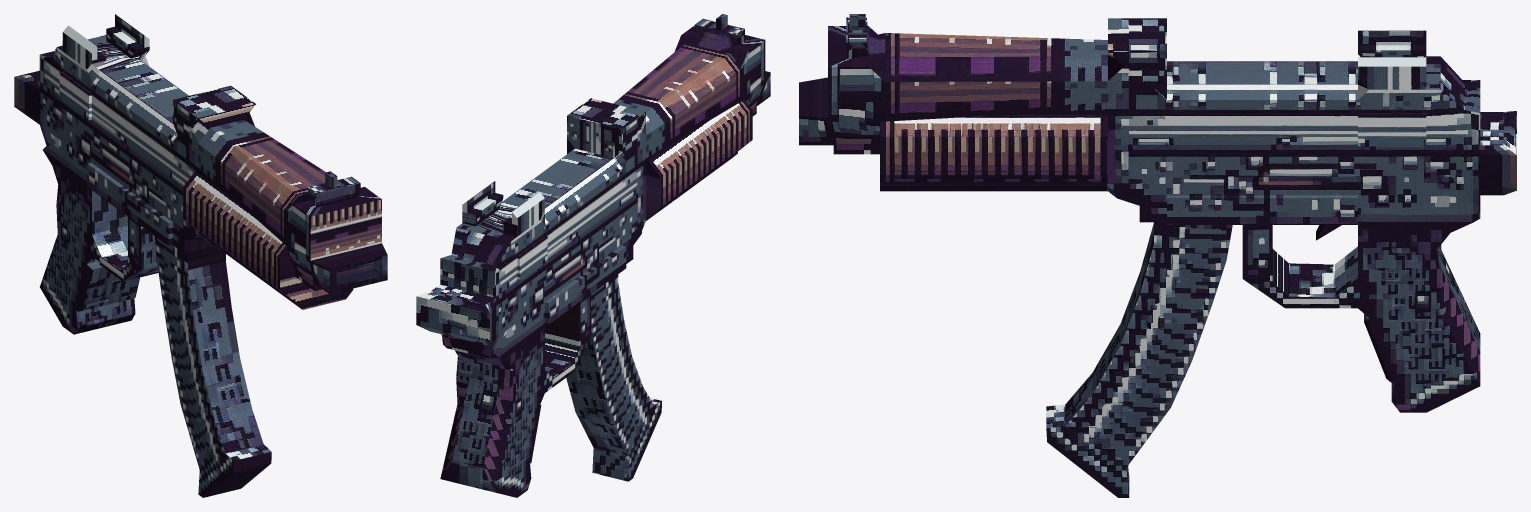
3 views of the same model, side by side, from view 1: azimuth 30°, elevation 25°; view 2: azimuth 150°, elevation 25°; view 3: azimuth 270°, elevation 25° (orthographic). The views are drawn at different scales.
Parts seen in each view (by area): view 1: OIG4 (14), OIG4 (14).001; view 2: OIG4 (14), OIG4 (14).001; view 3: OIG4 (14), OIG4 (14).001.
Part boxes in pixels (<box>): OIG4 (14): <box>14,14,387,334</box>; OIG4 (14).001: <box>155,236,271,497</box>; OIG4 (14): <box>416,18,770,497</box>; OIG4 (14).001: <box>566,274,661,481</box>; OIG4 (14): <box>799,17,1516,412</box>; OIG4 (14).001: <box>1046,222,1232,497</box>.
Size of the model in its own units: 0.1701 by 0.7371 by 1.02.
1 material, 1 textured.
